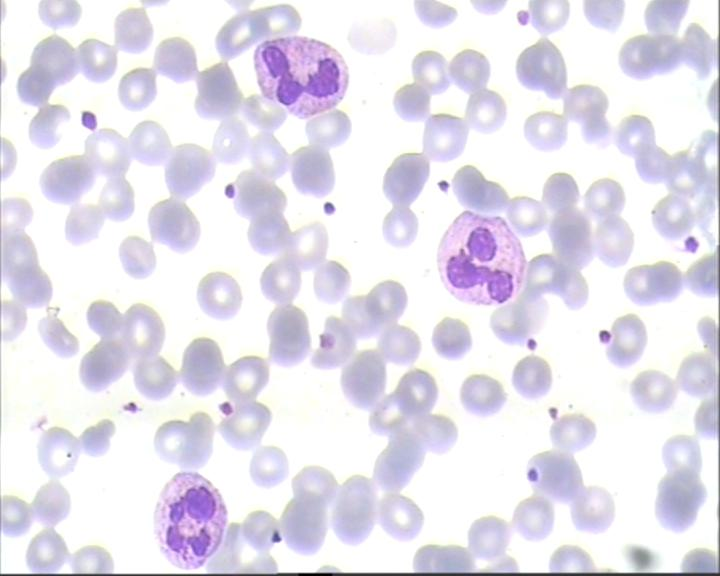neut: (253, 31, 360, 123), (436, 210, 523, 309), (147, 469, 229, 570)
